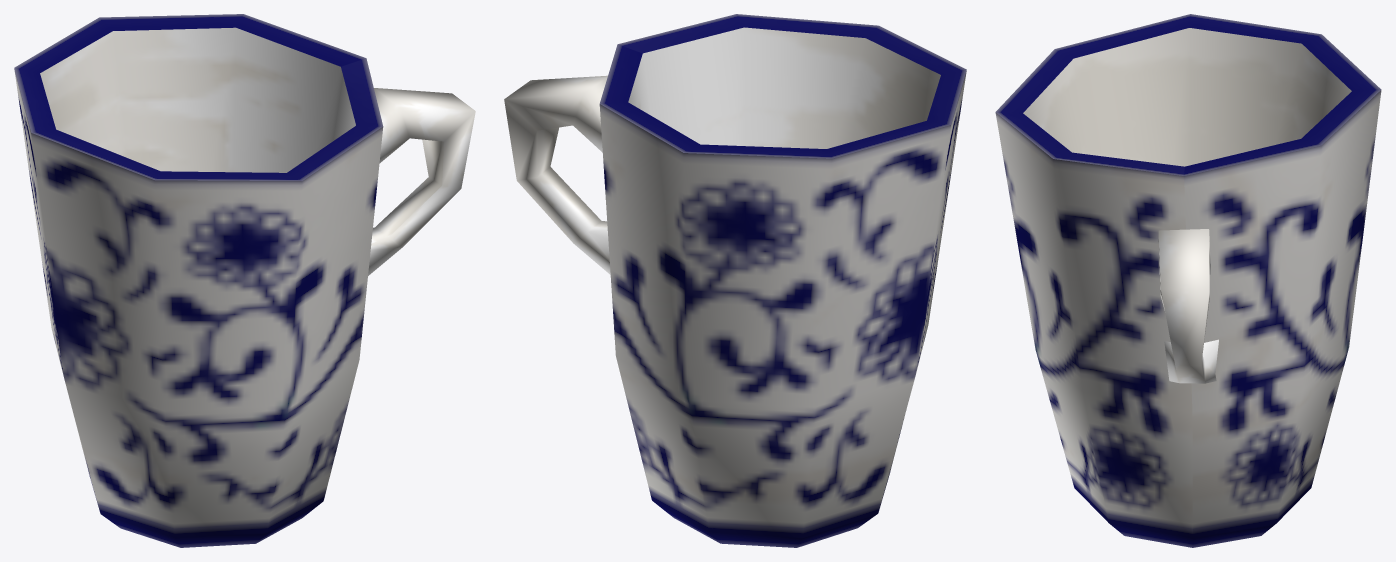
File: SM_PROP_cup_city_02.fbx
The picture shows the model from 3 angles, left to right: view 1: azimuth 30°, elevation 25°; view 2: azimuth 150°, elevation 25°; view 3: azimuth 270°, elevation 25°; orthographic projection. The views are drawn at different scales.
Parts seen in each view (by area): view 1: SM_PROP_cup_city_02; view 2: SM_PROP_cup_city_02; view 3: SM_PROP_cup_city_02.
Boxes of the visible parts, x1,y1,x2,y2 form: SM_PROP_cup_city_02: [14, 14, 475, 547]; SM_PROP_cup_city_02: [504, 14, 966, 547]; SM_PROP_cup_city_02: [995, 14, 1381, 547].
Size of the model in its own units: 19.16 by 17.95 by 15.23.
